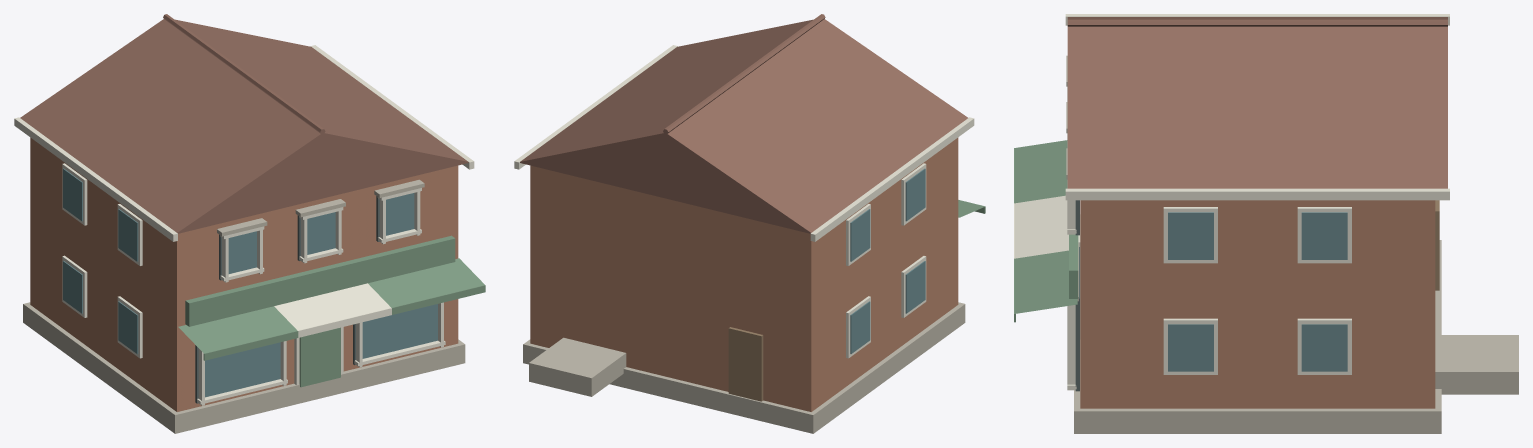
3 views of the same model, side by side, from view 1: azimuth 30°, elevation 25°; view 2: azimuth 150°, elevation 25°; view 3: azimuth 270°, elevation 25° (orthographic). The views are drawn at different scales.
Bounding box in the file's own units: 10.06 × 8.66 × 12.09.
